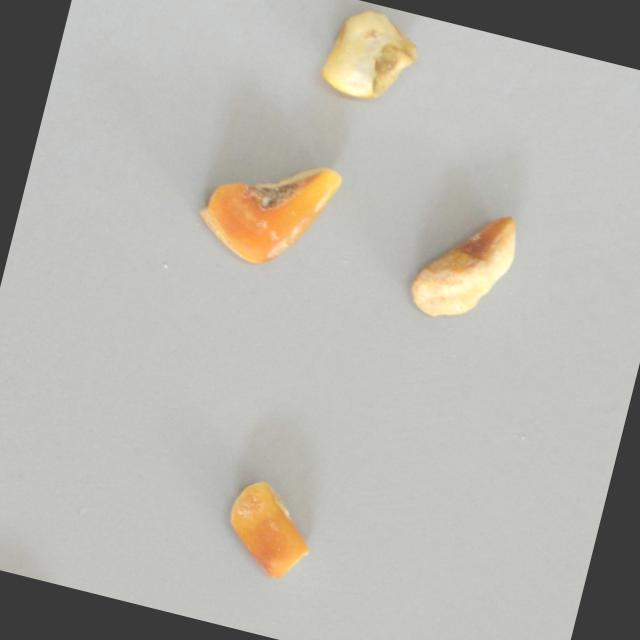dañado: (187, 137, 346, 281), (402, 194, 523, 332), (316, 0, 425, 108), (217, 472, 323, 582)
